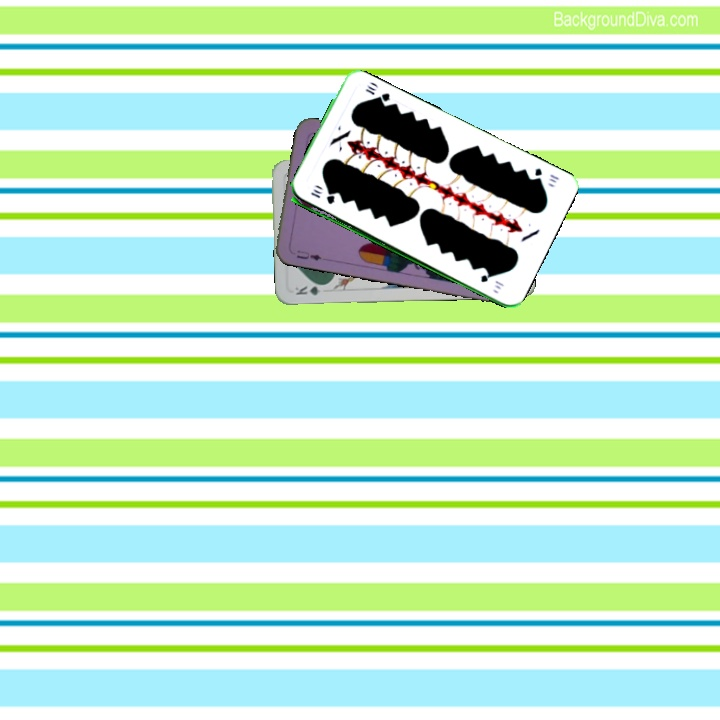EU: (293, 246, 324, 263)
G10: (529, 164, 561, 185), (307, 188, 337, 207)
GK: (291, 280, 330, 298)
